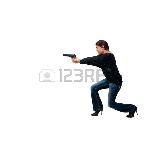Pistol: (62, 53, 78, 63)
